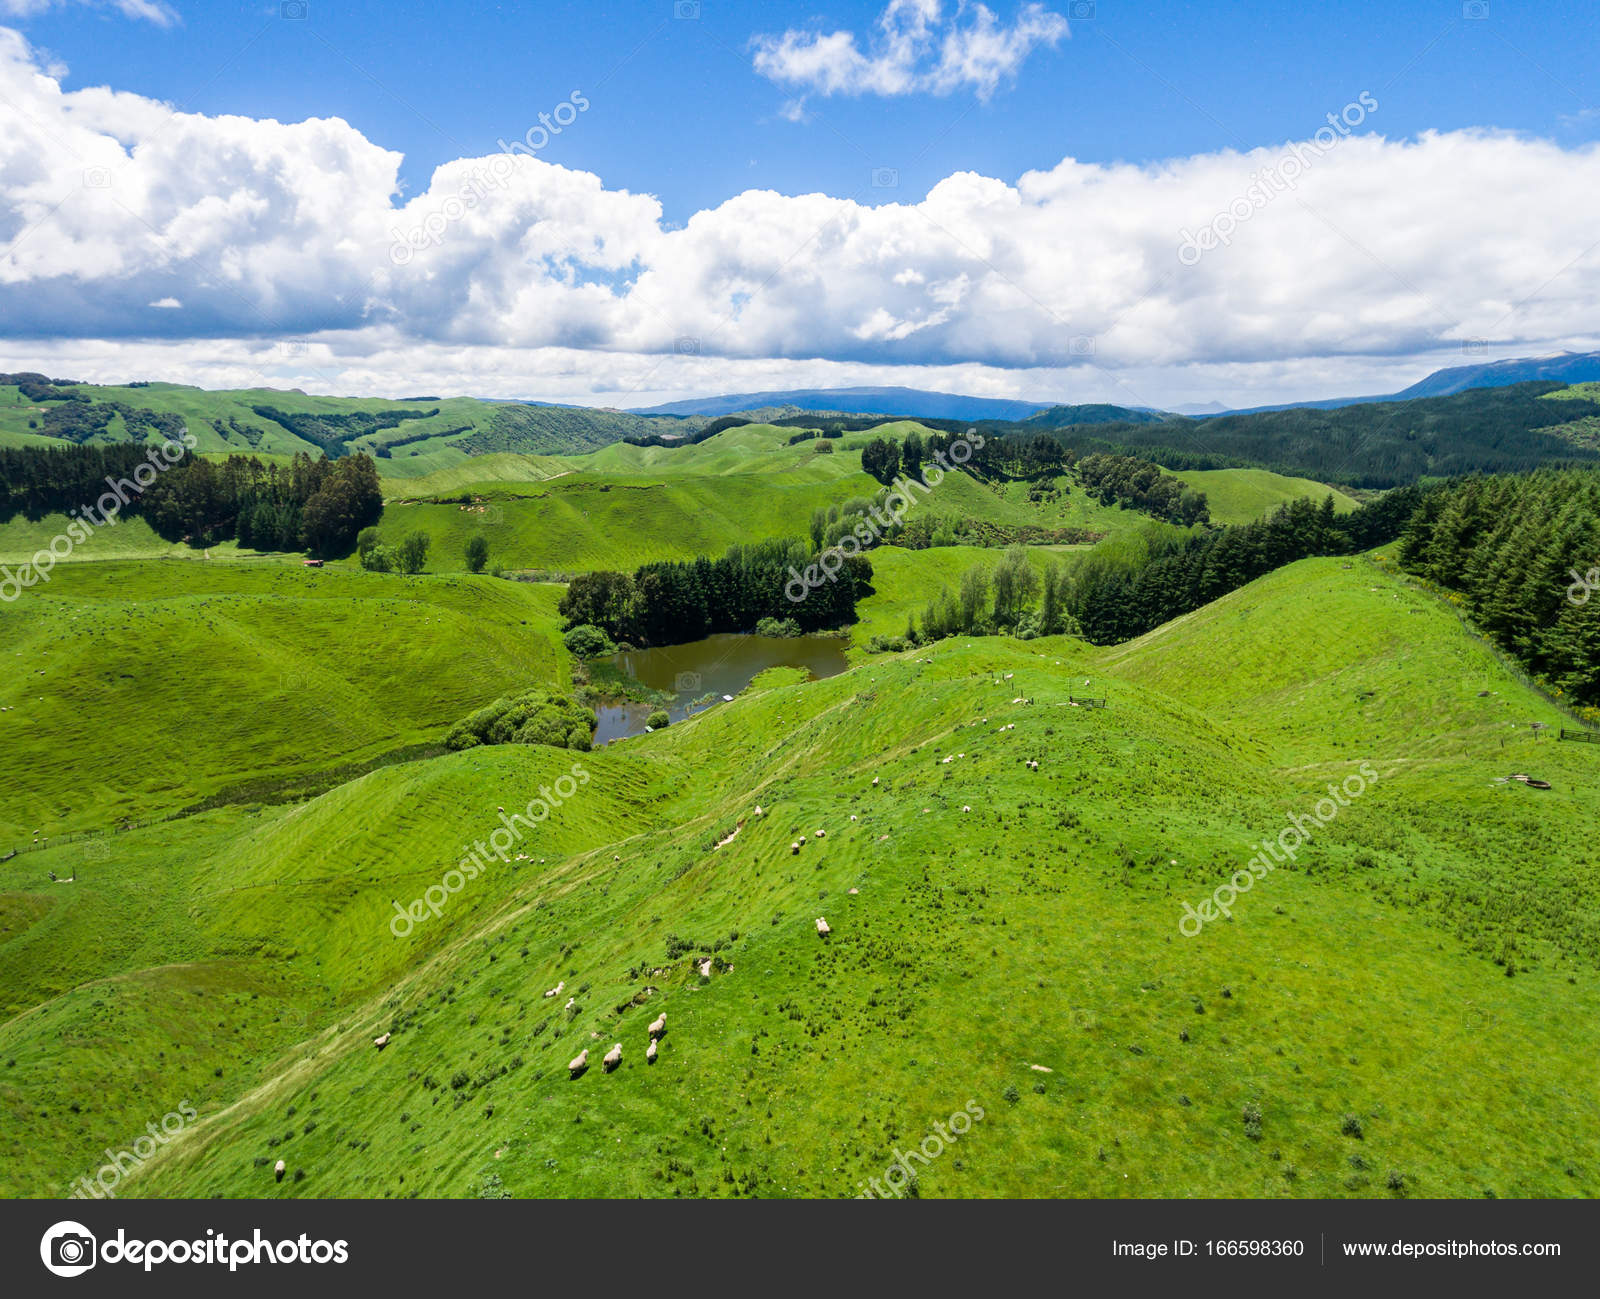sheep: (600, 1042, 624, 1074), (647, 1011, 668, 1041), (569, 1048, 589, 1074), (646, 1038, 659, 1062), (374, 1031, 391, 1048), (273, 1158, 288, 1176), (1033, 760, 1039, 770)
